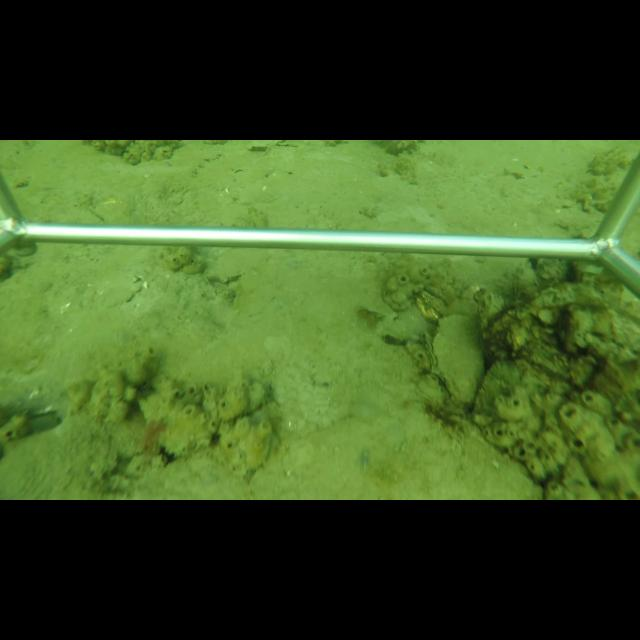Oyster-Closed: (433, 314, 488, 406), (205, 248, 270, 286), (420, 333, 436, 370)
